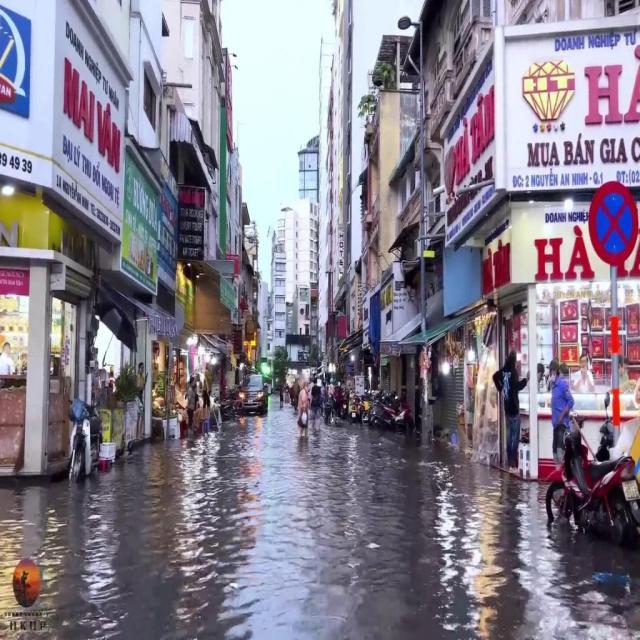cam_dung_xe_va_do_xe: (588, 179, 639, 266)
